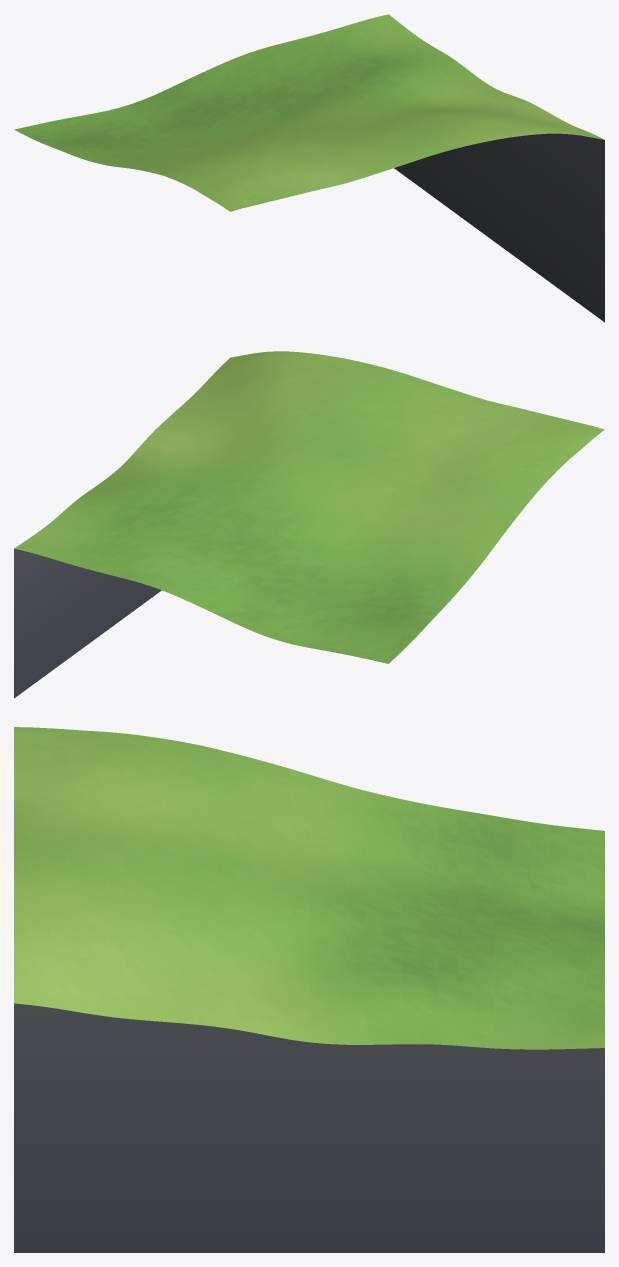
File: terrain_r4_c5.glb
3 views of the same model, one above another, from view 1: azimuth 30°, elevation 25°; view 2: azimuth 150°, elevation 25°; view 3: azimuth 270°, elevation 25° (orthographic). The views are drawn at different scales.
Parts seen in each view (by area): view 1: terrain_r4_c5; view 2: terrain_r4_c5; view 3: terrain_r4_c5.
Part boxes in pixels (left/top/right/bottom): terrain_r4_c5: left=14, top=14, right=604, bottom=322; terrain_r4_c5: left=14, top=351, right=604, bottom=698; terrain_r4_c5: left=14, top=727, right=604, bottom=1252.
Size of the model in its own units: 128 by 68.68 by 128.
1 material, 1 textured.
